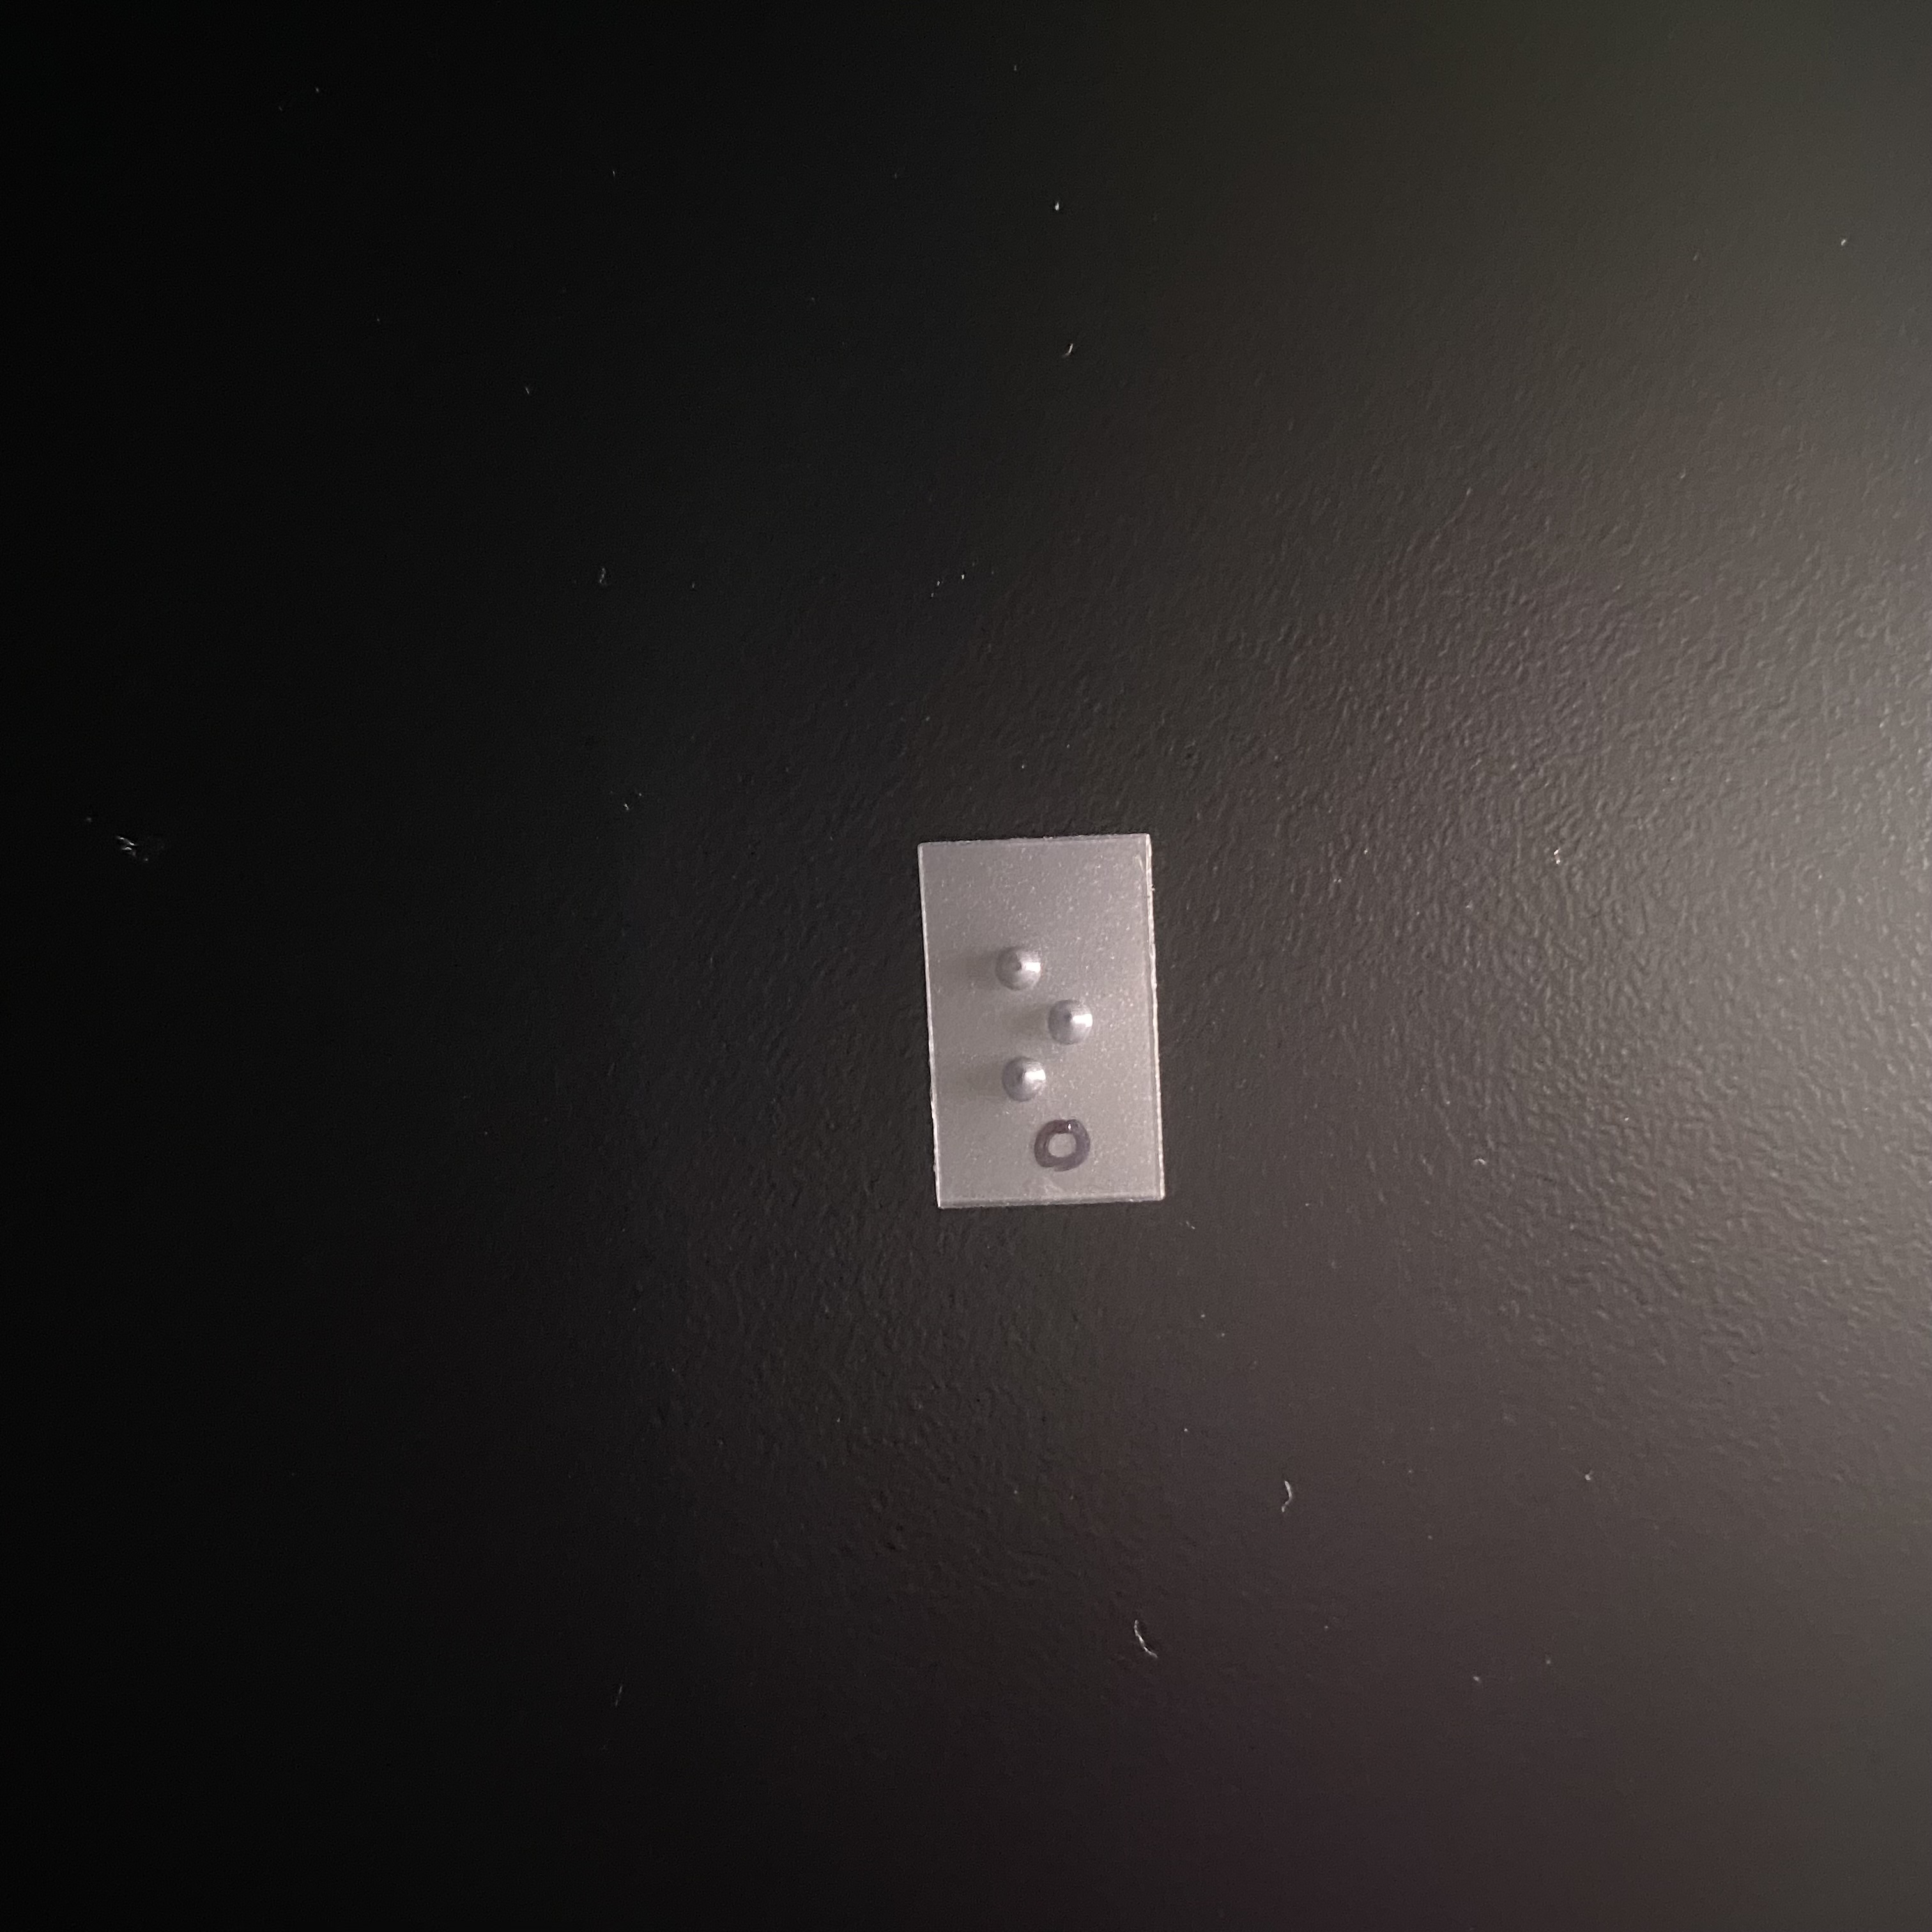o: (972, 936, 1117, 1126)
